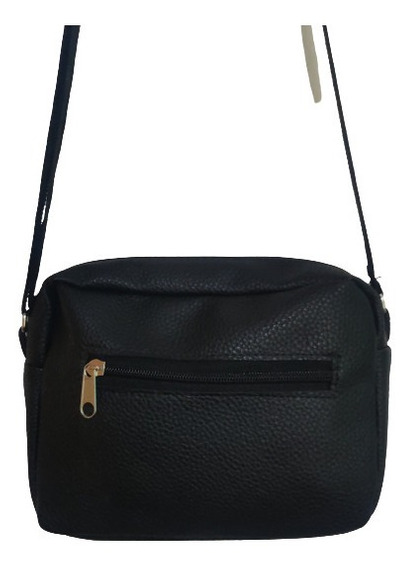cartera: (16, 252, 392, 546)
